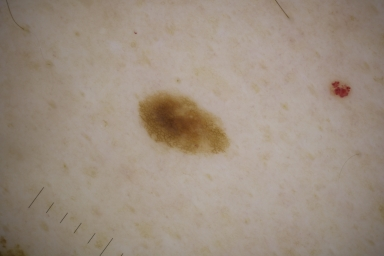melanoma: (142, 93, 229, 154)
